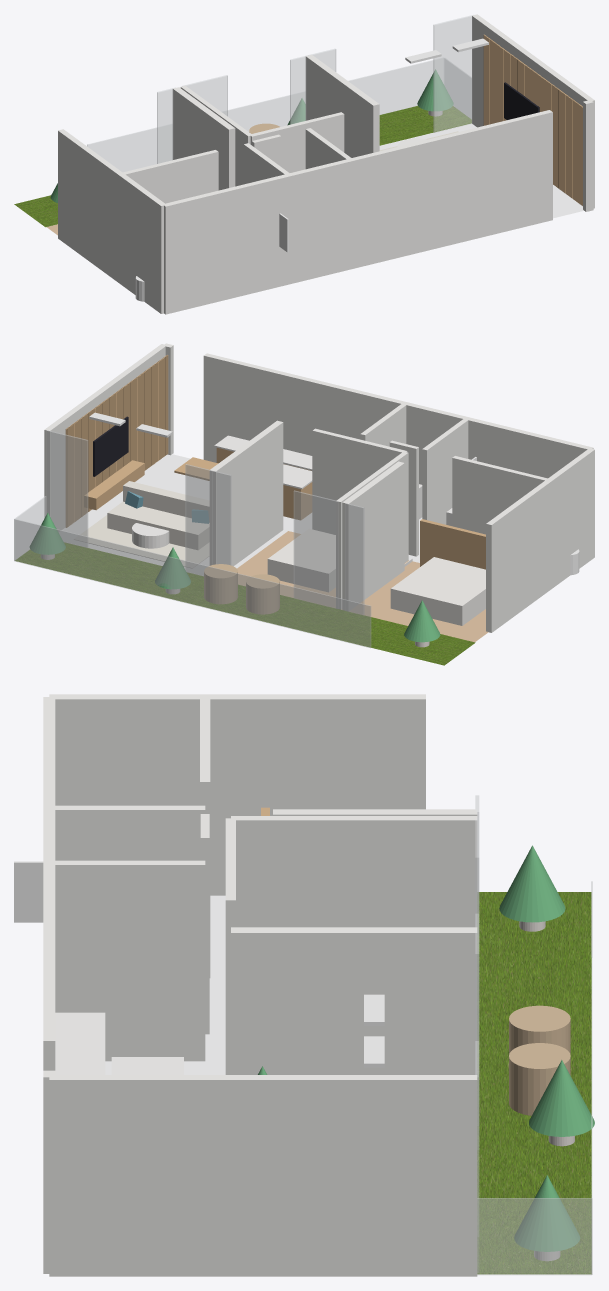
File: apartment.glb
3 renders of one model, top to bottom at view 1: azimuth 30°, elevation 25°; view 2: azimuth 150°, elevation 25°; view 3: azimuth 270°, elevation 25°, orthographic. The views are drawn at different scales.
Visible parts, largest first — view 1: Wall_South_1, Wall_West, Railing_North, Wall_Bed2_East, Glazing_Living_R, Wall_Master_East, Wall_MasterBath_North, Wall_East, Floor_Balcony_GrassTurf, Wall_Bed2_North, Wall_South_2, Glazing_Master (+10 smaller); view 2: Wall_South_1, Railing_North, Wall_West, Floor_Balcony_GrassTurf, Wall_Bed2_East, Wall_Master_East, Glazing_Bed2_L, Wall_Bed2_North, Bed_Master_King, Glazing_Living_R, Wall_MasterBath_North, Floor_Main_Porcelain (+29 smaller); view 3: Wall_East, Wall_West, Wall_Bed2_East, Floor_Balcony_GrassTurf, Wall_CommonBath_East, Wall_Bed2_West, Railing_East, Wall_MasterBath_East, Wall_South_1, Floor_Main_Porcelain, Kitchen_Quartz_Countertop, Rattan_Chair_2 (+12 smaller).
Part boxes in pixels (x1,y1,x2,y2): Wall_South_1: (163,110,552,314); Wall_West: (58,129,164,313); Railing_North: (87,58,443,171); Wall_Bed2_East: (305,54,379,157); Glazing_Living_R: (433,15,473,132); Wall_Master_East: (172,87,235,190); Wall_MasterBath_North: (120,150,218,203); Wall_East: (472,14,594,208); Floor_Balcony_GrassTurf: (14,106,471,227); Wall_Bed2_North: (249,112,344,172); Wall_South_2: (583,100,593,211); Glazing_Master: (157,87,175,163); Wall_South_1: (203,353,593,484); Railing_North: (14,519,371,648); Wall_West: (486,449,594,632); Floor_Balcony_GrassTurf: (15,542,475,665); Wall_Bed2_East: (209,420,283,566); Wall_Master_East: (342,461,404,611); Glazing_Bed2_L: (293,490,337,607); Wall_Bed2_North: (312,428,407,534); Bed_Master_King: (390,557,485,625); Glazing_Living_R: (46,430,88,547); Wall_MasterBath_North: (452,456,550,534); Floor_Main_Porcelain: (59,454,487,640); Wall_East: (49,1075,477,1276); Wall_West: (49,694,425,895); Wall_Bed2_East: (231,927,477,1074); Floor_Balcony_GrassTurf: (477,892,591,1274); Wall_CommonBath_East: (55,860,205,1061); Wall_Bed2_West: (231,816,477,927); Railing_East: (477,1198,591,1275); Wall_MasterBath_East: (49,805,205,860); Wall_South_1: (43,697,55,1070); Floor_Main_Porcelain: (105,895,225,1074); Kitchen_Quartz_Countertop: (55,1012,105,1074); Rattan_Chair_2: (509,1043,570,1115).
Size of the model in its own units: 12.51 by 2.96 by 7.9.
Materials: 19 (1 with a texture image).
